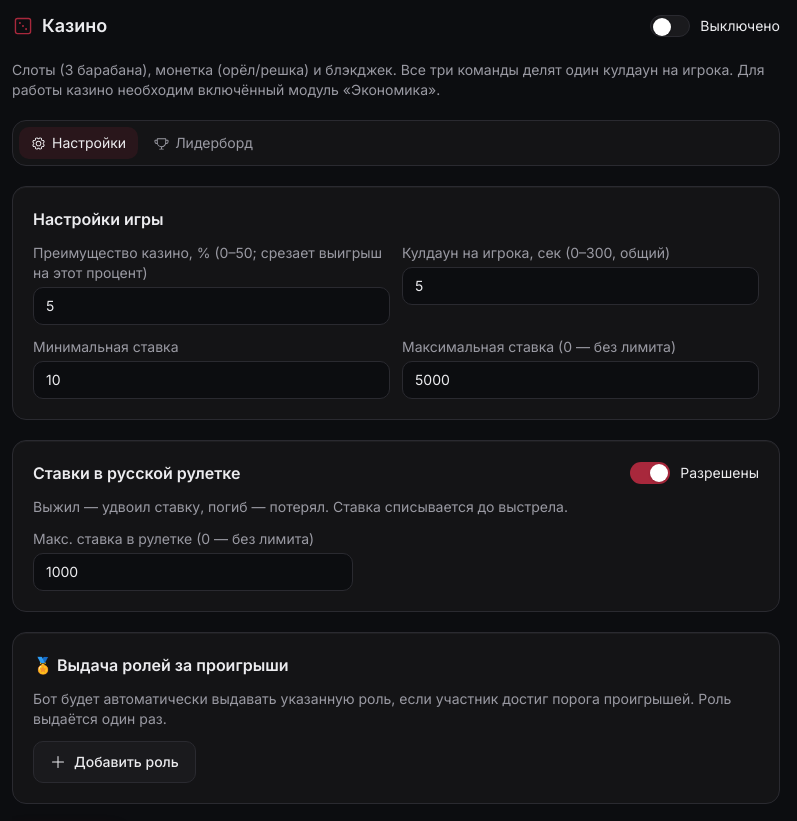
Test: CasinoPage › shows leaderboard on its tab
The image size is (797, 821).
Click the button "Лидерборд": (203, 143) [142,127,265,159]
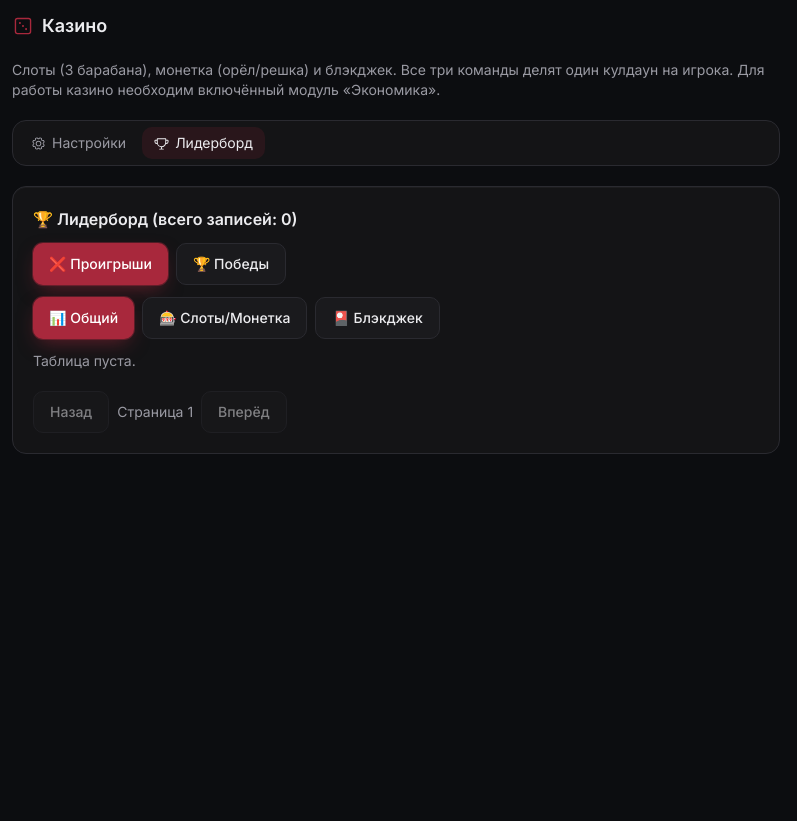
Expected: the text "Таблица пуста." is shown, [33,352,136,369]
Expected: the heading "🏆 Лидерборд (всего записей: 0)" is shown, [33,209,298,229]
